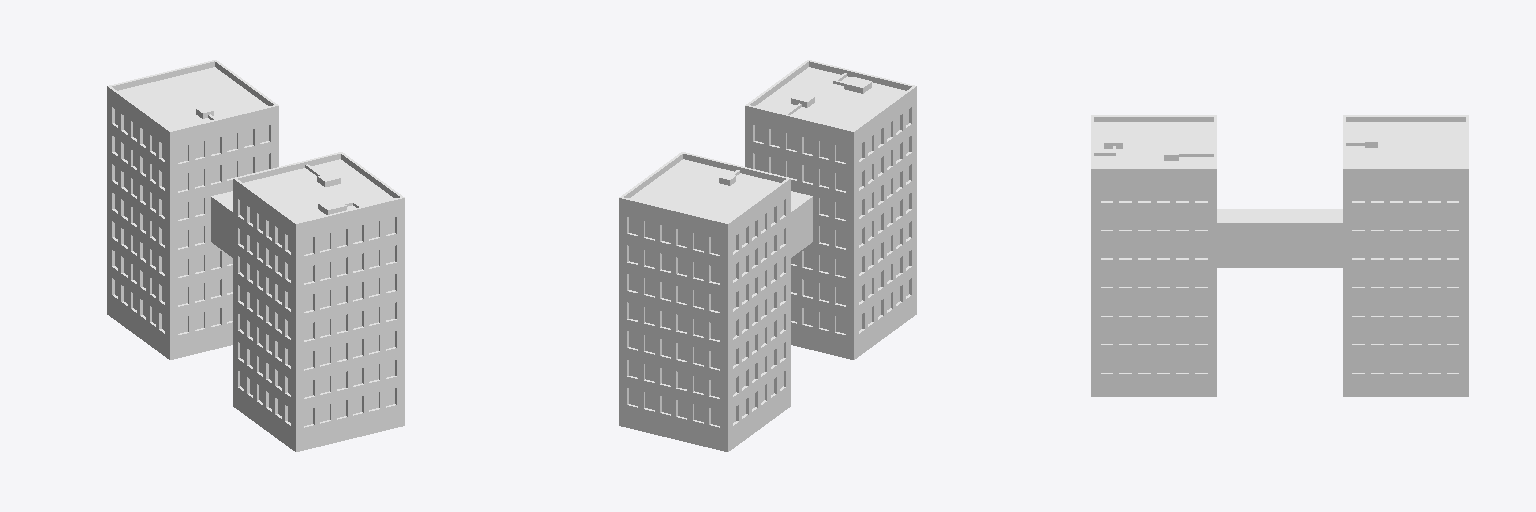
The model's file is Asset-7.obj.
3 views of the same model, side by side, from view 1: azimuth 30°, elevation 25°; view 2: azimuth 150°, elevation 25°; view 3: azimuth 270°, elevation 25° (orthographic).
Visible parts, largest first — view 1: Asset-7; view 2: Asset-7; view 3: Asset-7.
Part boxes in pixels (x1,y1,x2,y2): Asset-7: (107, 60, 404, 451); Asset-7: (619, 60, 916, 451); Asset-7: (1091, 115, 1468, 396).
Size of the model in its own units: 40 by 80 by 120.